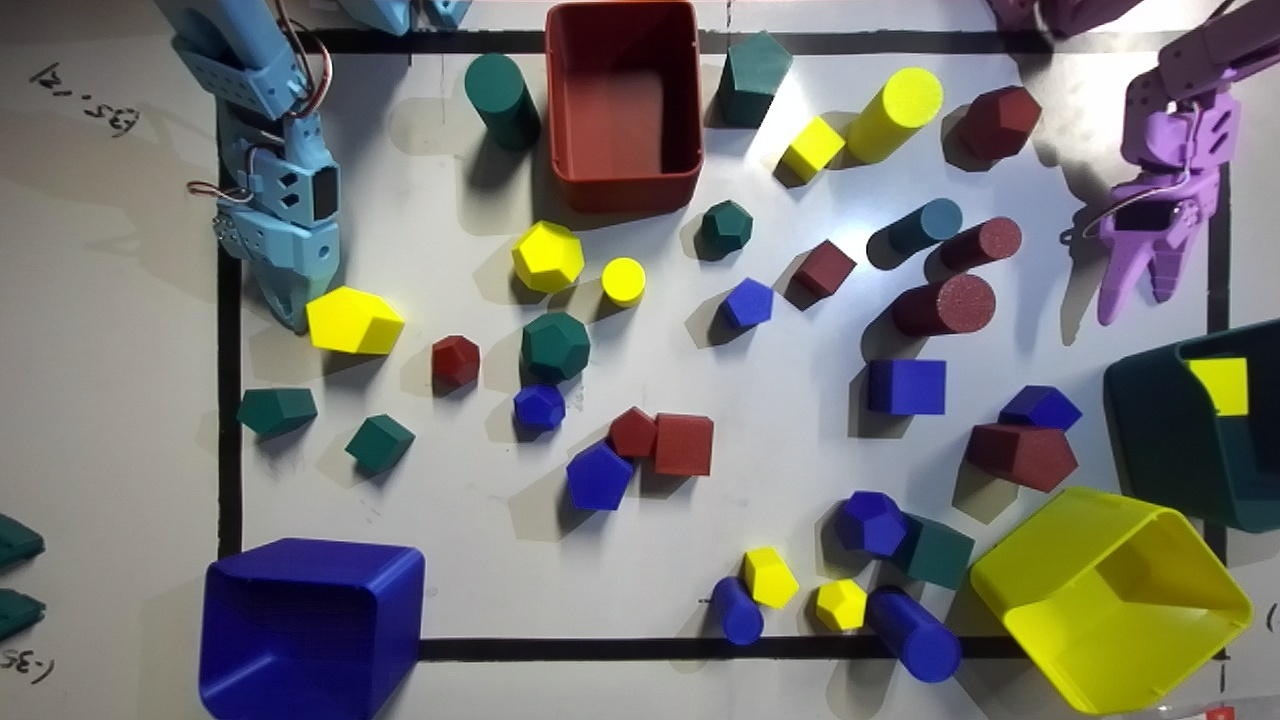bin: (971, 487, 1252, 713), (199, 539, 424, 719), (1104, 319, 1279, 531), (545, 0, 702, 212)
cube: (891, 514, 974, 590), (868, 359, 946, 414), (345, 414, 415, 474), (782, 117, 844, 181), (998, 385, 1082, 430), (654, 413, 713, 475), (792, 239, 855, 297), (1186, 357, 1248, 415)
cylinder: (846, 67, 942, 163), (866, 587, 961, 682), (465, 53, 538, 149), (890, 274, 995, 335), (941, 217, 1021, 271), (888, 198, 962, 256), (710, 577, 763, 645), (600, 257, 645, 307)
dodecahedron: (952, 86, 1040, 162), (511, 221, 583, 292), (522, 312, 589, 383), (835, 491, 907, 556), (697, 200, 752, 258), (431, 335, 479, 395), (815, 579, 866, 630), (513, 384, 564, 429)
hexagonal: (966, 424, 1077, 492), (717, 31, 792, 127), (305, 287, 403, 354), (566, 440, 633, 510), (236, 388, 316, 437), (743, 547, 798, 608), (722, 277, 773, 327), (608, 407, 656, 457)
